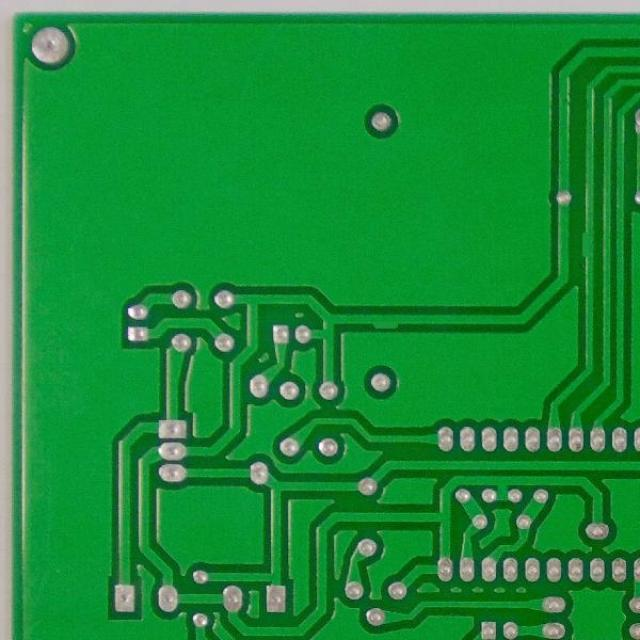Spur: (366, 308, 404, 332), (577, 225, 598, 264)
